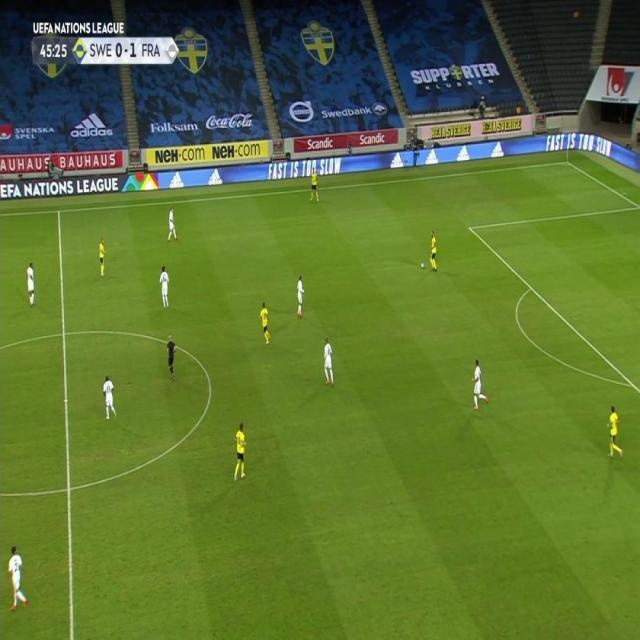ball: (420, 262, 426, 271)
player: (7, 545, 29, 612), (605, 404, 625, 461), (232, 420, 249, 484), (471, 359, 491, 411), (102, 376, 118, 422), (259, 301, 273, 348), (323, 338, 335, 390), (25, 261, 37, 309), (159, 266, 172, 309), (309, 166, 321, 205), (428, 229, 438, 275), (296, 275, 306, 321), (167, 206, 179, 242), (98, 237, 107, 278)
referee: (166, 334, 178, 383)
